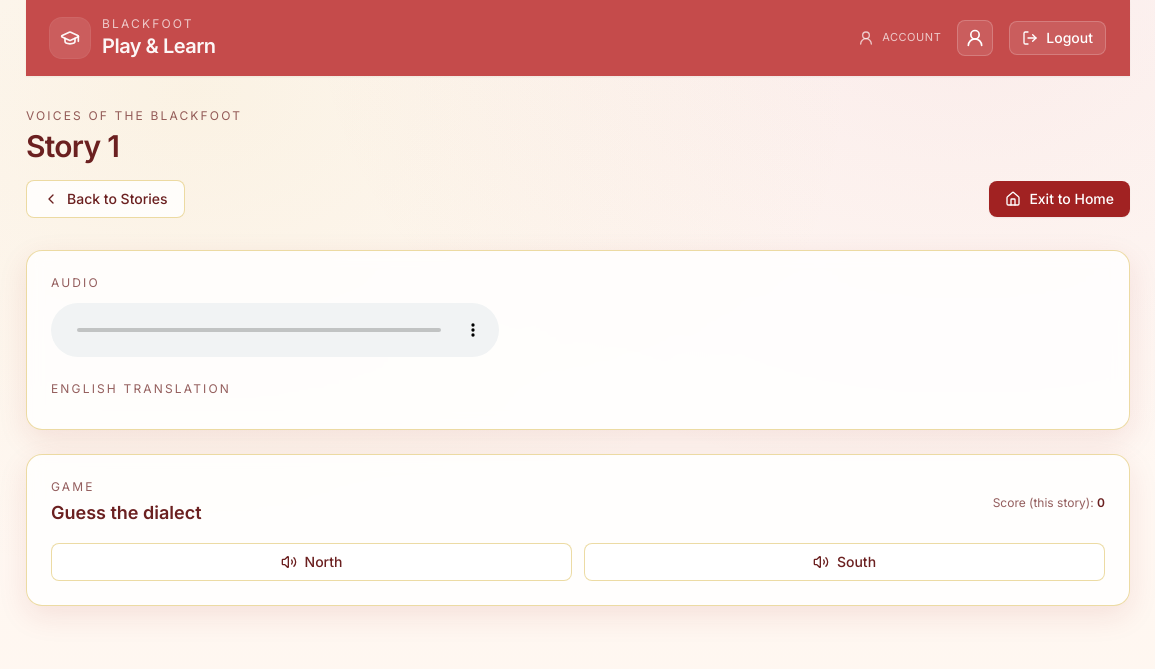
Test: ShortStoryDetail component › handles incorrect dialect guess
Expected: the heading "Story 1" is shown, left=26, top=128, right=119, bottom=164
Click the button "South": (844, 562) left=584, top=543, right=1105, bottom=581
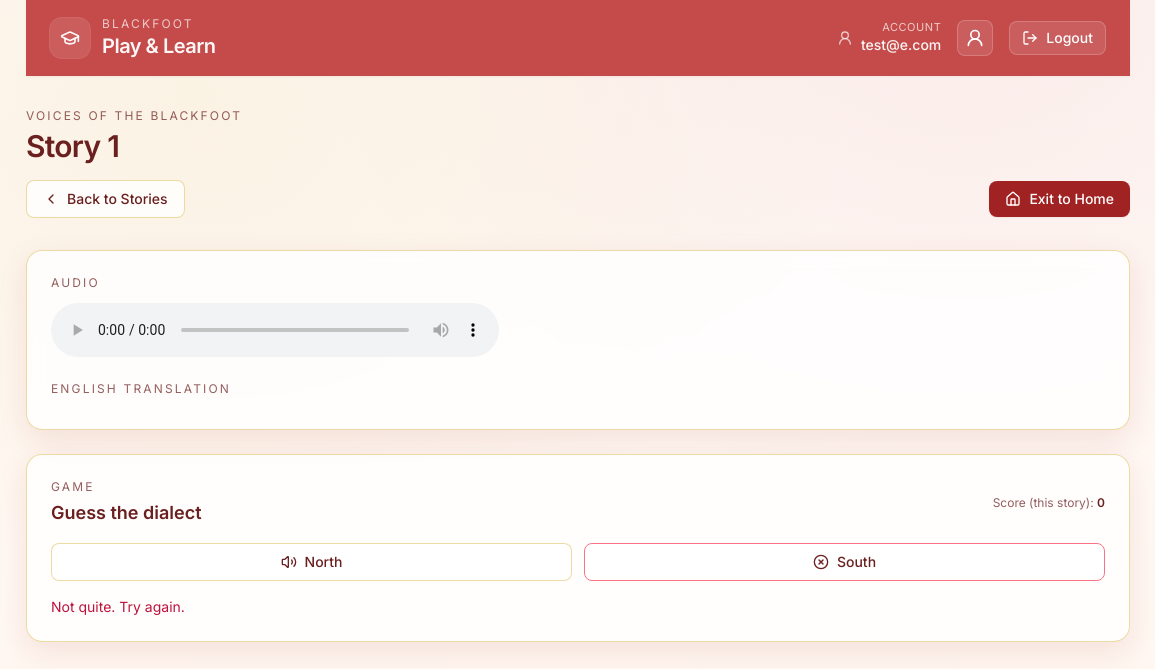
Expected: the text "Not quite. Try again." is shown, left=51, top=598, right=185, bottom=615
